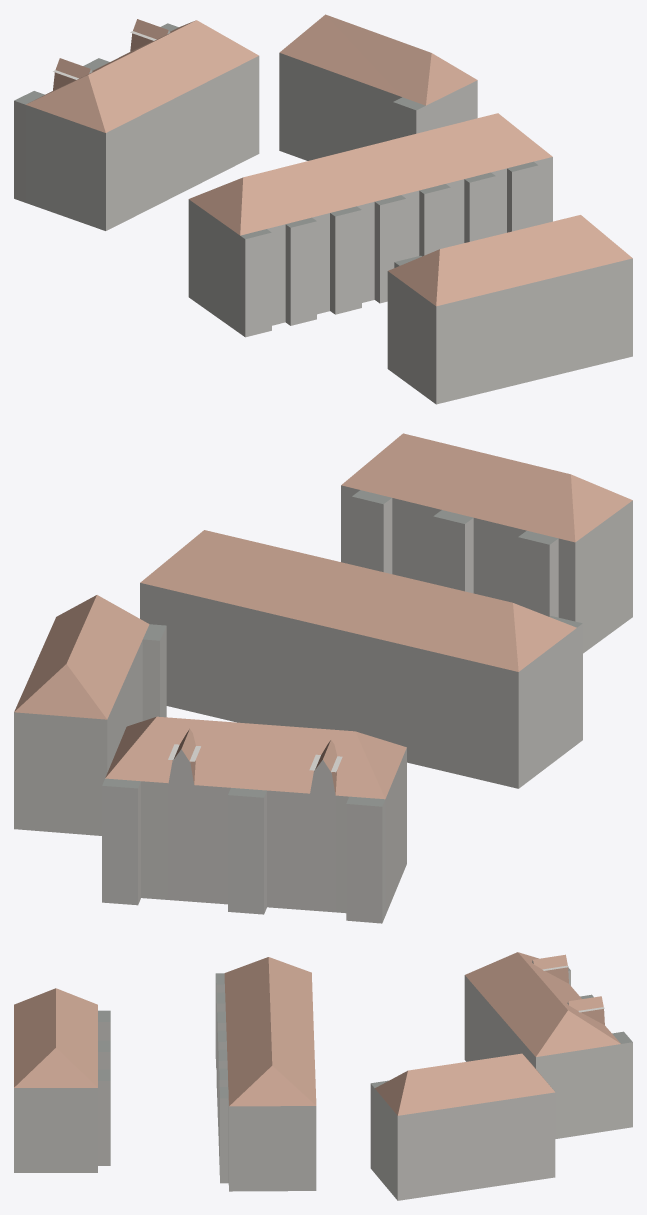
The model's file is gridID_55.dae.
3 renders of one model, top to bottom at view 1: azimuth 30°, elevation 25°; view 2: azimuth 150°, elevation 25°; view 3: azimuth 270°, elevation 25°, orthographic. The views are drawn at different scales.
Parts seen in each view (by area): view 1: model_gridID_55_w399620552, model_gridID_55_w399620551, model_gridID_55_w399620550, model_gridID_55_w399620553_001; view 2: model_gridID_55_w399620552, model_gridID_55_w399620551, model_gridID_55_w399620550, model_gridID_55_w399620553_001; view 3: model_gridID_55_w399620553_001, model_gridID_55_w399620552, model_gridID_55_w399620551, model_gridID_55_w399620550.
Part boxes in pixels (x1,y1,x2,y2): model_gridID_55_w399620552: (188, 113, 552, 337); model_gridID_55_w399620551: (14, 19, 259, 230); model_gridID_55_w399620550: (387, 215, 632, 404); model_gridID_55_w399620553_001: (279, 14, 477, 160); model_gridID_55_w399620552: (140, 530, 582, 788); model_gridID_55_w399620551: (102, 716, 406, 923); model_gridID_55_w399620550: (341, 433, 632, 653); model_gridID_55_w399620553_001: (14, 595, 166, 835); model_gridID_55_w399620553_001: (370, 1053, 555, 1200); model_gridID_55_w399620552: (215, 957, 316, 1191); model_gridID_55_w399620551: (464, 952, 632, 1138); model_gridID_55_w399620550: (14, 988, 110, 1172).
Size of the model in its own units: 58.99 by 98.95 by 20.
